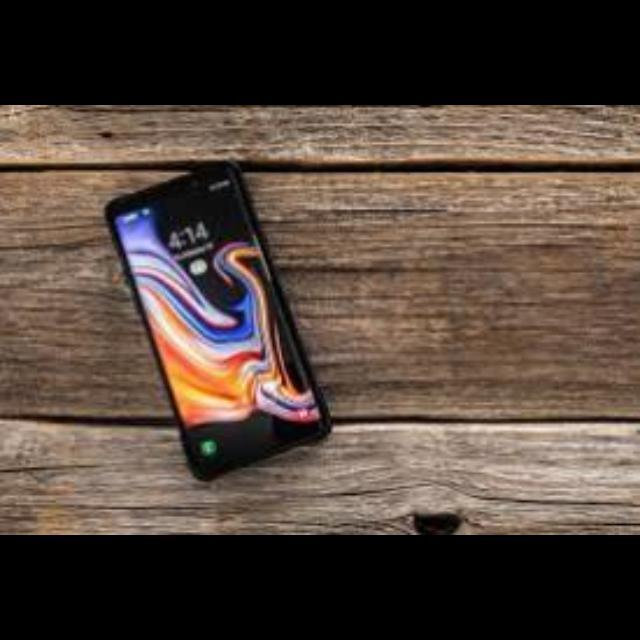PhoneUse: (106, 160, 332, 482)
